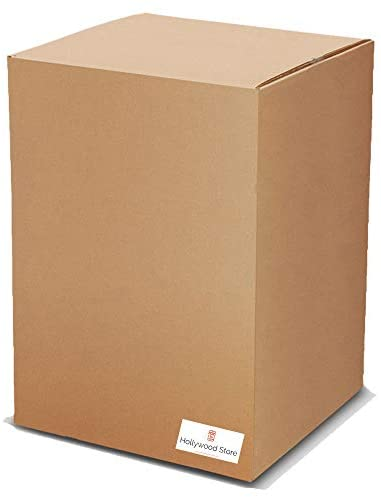stock: (10, 15, 374, 484)
